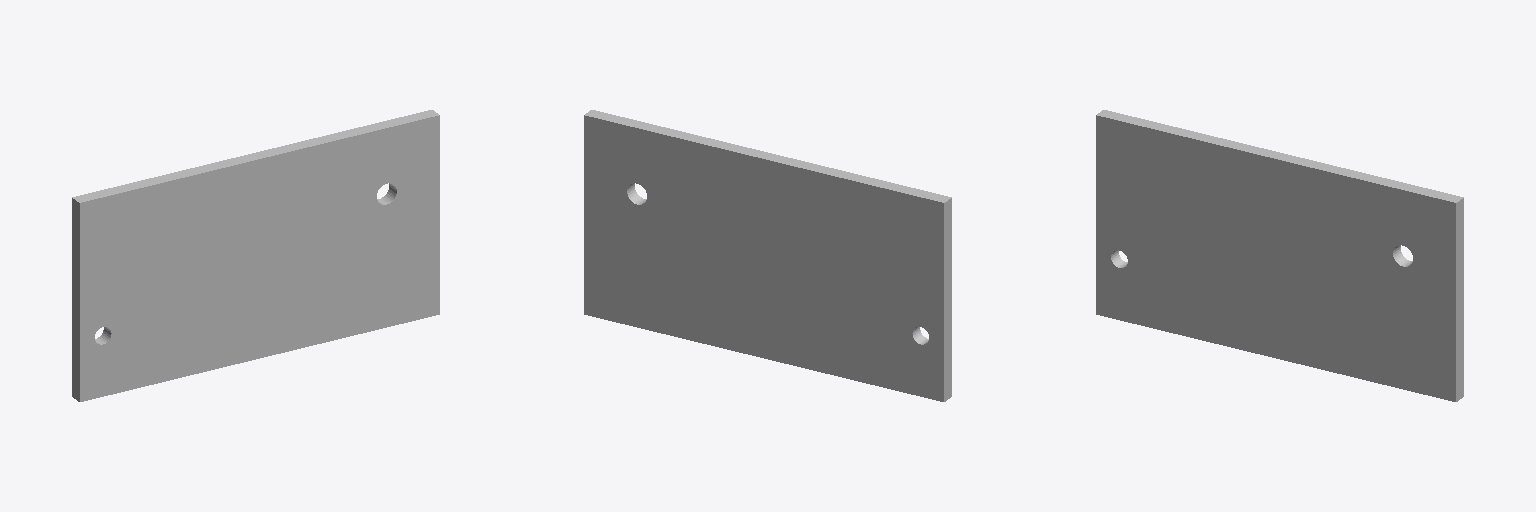
Rendered from controllerboard.obj.
3 views of the same model, side by side, from view 1: azimuth 30°, elevation 25°; view 2: azimuth 150°, elevation 25°; view 3: azimuth 330°, elevation 25° (orthographic).
Visible parts, largest first — view 1: Body1; view 2: Body1; view 3: Body1.
Boxes of the visible parts, box(x1,y1,x2,y2) form: Body1: box(72, 110, 439, 401); Body1: box(584, 110, 951, 401); Body1: box(1096, 110, 1463, 401).
Bounding box in the file's own units: 5.38 × 2.84 × 0.2.